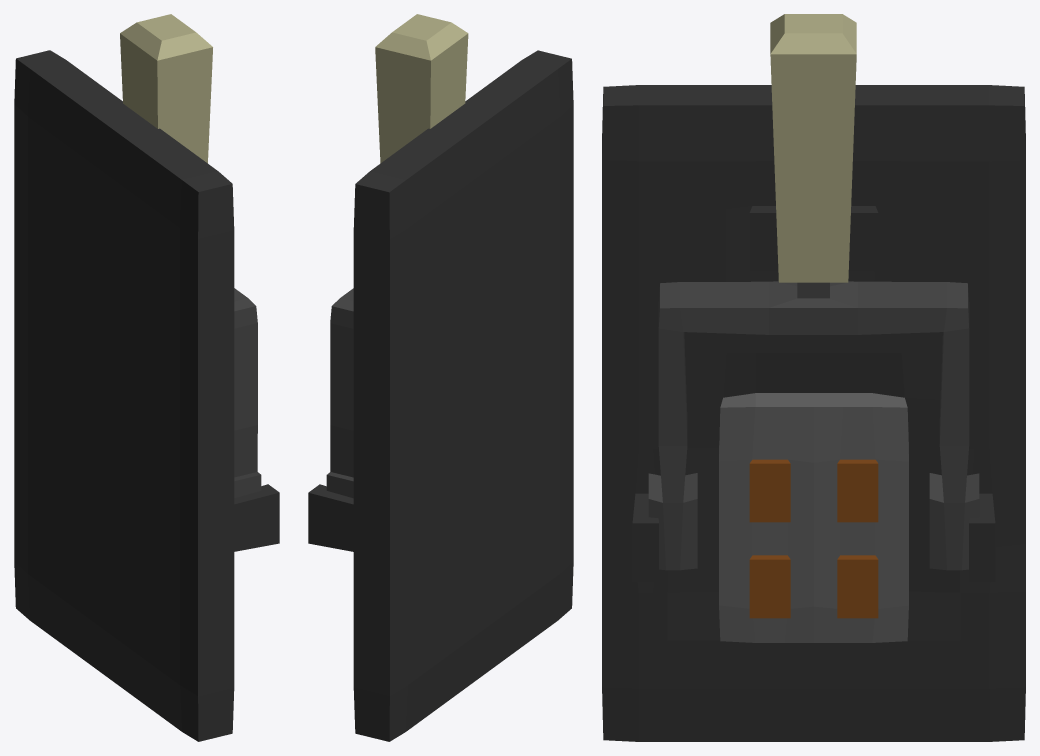
File: Lever_1.fbx
The picture shows the model from 3 angles, left to right: view 1: azimuth 30°, elevation 25°; view 2: azimuth 150°, elevation 25°; view 3: azimuth 270°, elevation 25°; orthographic projection. The views are drawn at different scales.
Visible parts, largest first — view 1: Cube.002; view 2: Cube.002; view 3: Cube.002.
Part boxes in pixels (left/top/right/bottom): Cube.002: left=14, top=14, right=279, bottom=741; Cube.002: left=308, top=14, right=573, bottom=741; Cube.002: left=602, top=14, right=1025, bottom=741.
Bounding box in the file's own units: 37.61 × 235 × 123.
